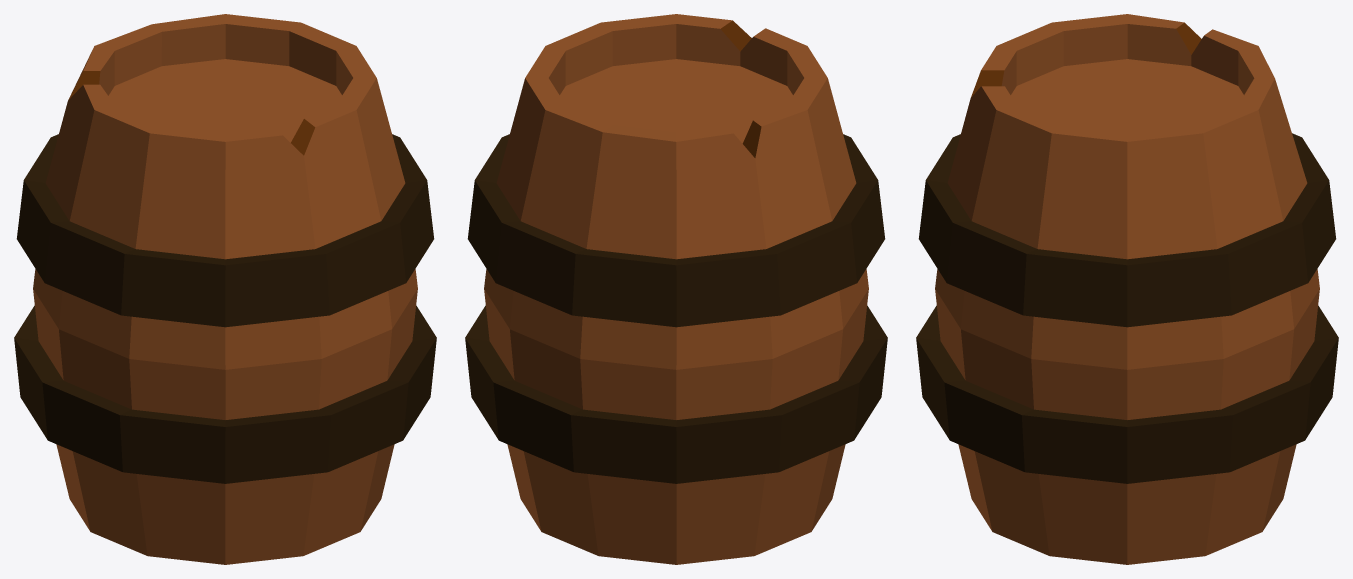
The model's file is barrel_1.glb.
3 renders of one model, left to right at view 1: azimuth 30°, elevation 25°; view 2: azimuth 150°, elevation 25°; view 3: azimuth 270°, elevation 25°, orthographic.
Parts seen in each view (by area): view 1: Cylinder; view 2: Cylinder; view 3: Cylinder.
Boxes of the visible parts, x1,y1,x2,y2 form: Cylinder: (14, 14, 436, 564); Cylinder: (465, 14, 887, 564); Cylinder: (916, 14, 1338, 564).
Size of the model in its own units: 1.31 by 1.43 by 1.31.
